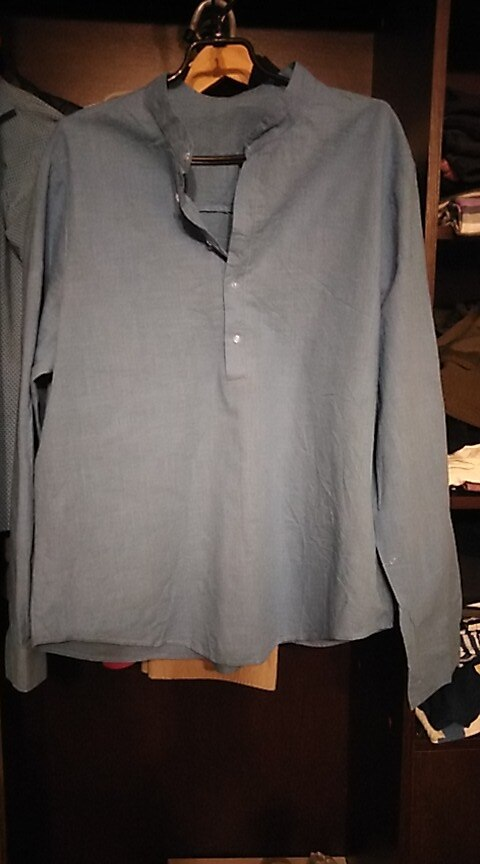shirts: (15, 50, 480, 710)
